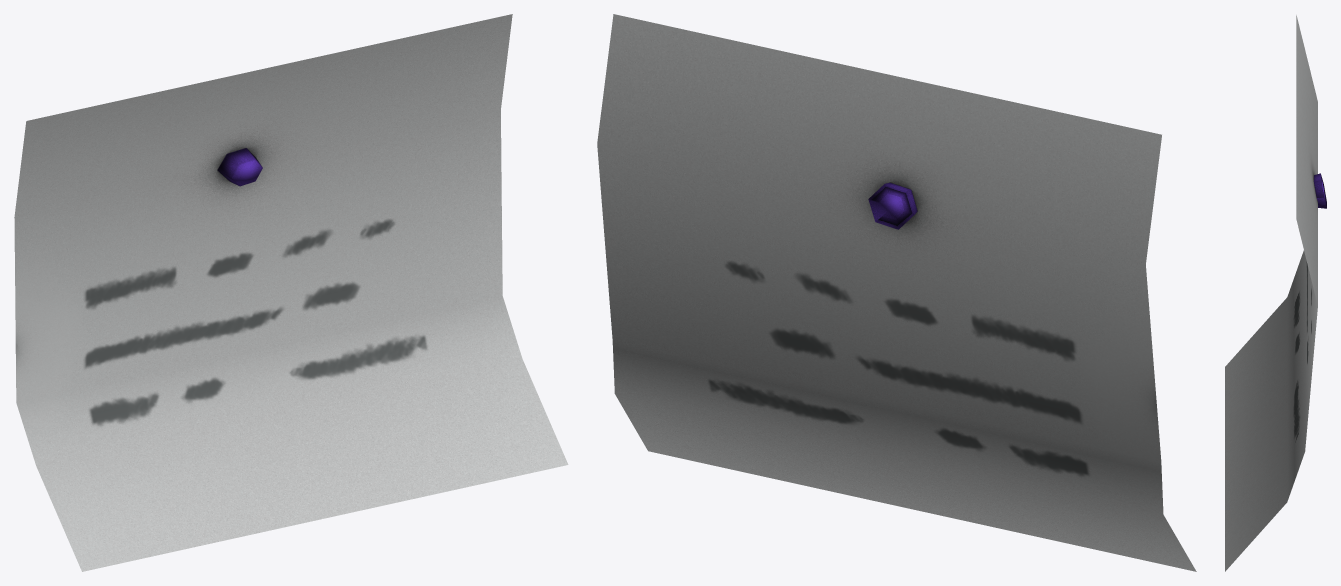
File: justnote.fbx
3 renders of one model, left to right at view 1: azimuth 30°, elevation 25°; view 2: azimuth 150°, elevation 25°; view 3: azimuth 270°, elevation 25°, orthographic. The views are drawn at different scales.
Parts seen in each view (by area): view 1: construction_note; view 2: construction_note; view 3: construction_note.
Part boxes in pixels (x1,y1,x2,y2): construction_note: [14, 14, 568, 571]; construction_note: [597, 14, 1196, 571]; construction_note: [1225, 15, 1326, 571].
Size of the model in its own units: 91.14 by 75.05 by 19.39.
Materials: 1 (1 with a texture image).
